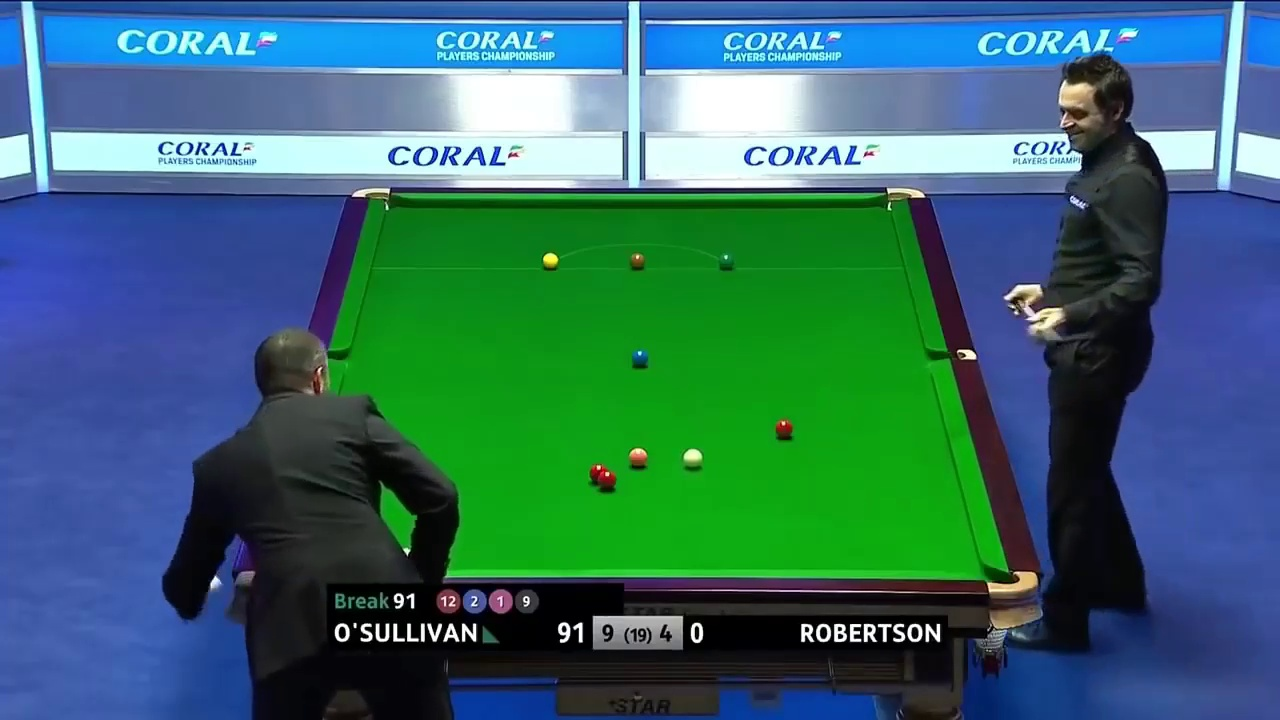ball: (679, 448, 706, 471), (627, 447, 650, 469), (539, 249, 562, 268), (597, 470, 616, 492), (626, 252, 647, 271), (775, 419, 794, 439), (634, 348, 652, 368), (716, 253, 733, 272)
